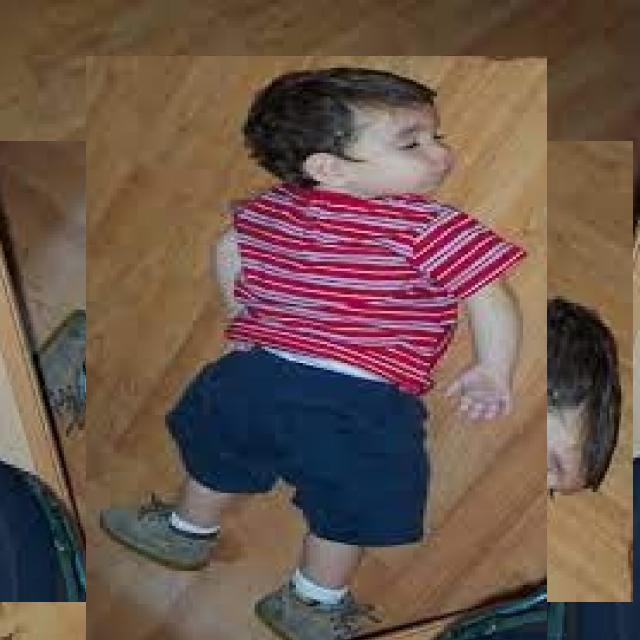Fall: (77, 51, 512, 640)
